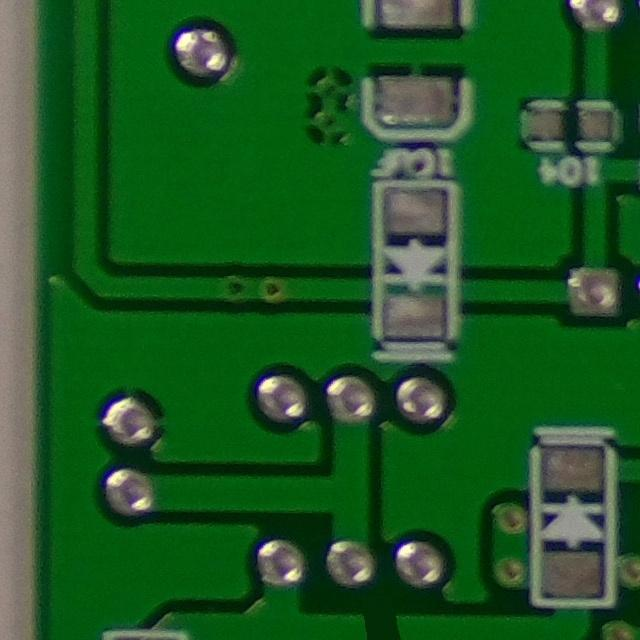open_circuit: (349, 601, 416, 640)
